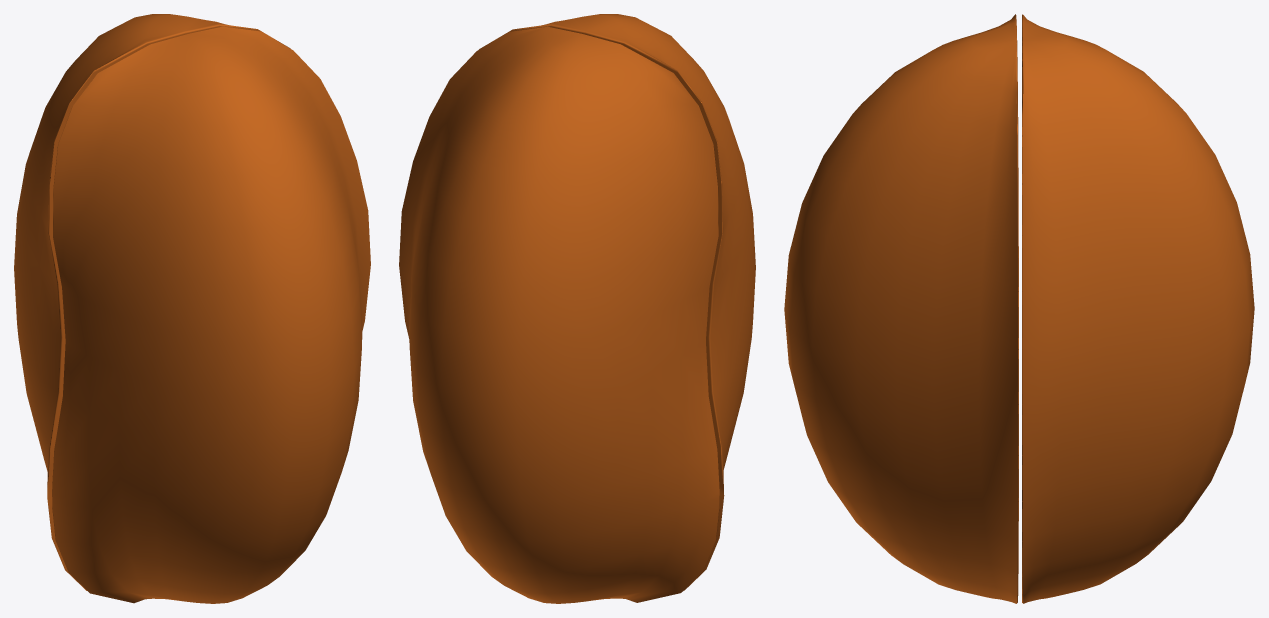
File: Seed final..fbx
3 renders of one model, left to right at view 1: azimuth 30°, elevation 25°; view 2: azimuth 150°, elevation 25°; view 3: azimuth 270°, elevation 25°, orthographic.
Visible parts, largest first — view 1: Sphere; view 2: Sphere; view 3: Sphere.
Part boxes in pixels (<box>): Sphere: <box>14,14,370,603</box>; Sphere: <box>399,14,755,603</box>; Sphere: <box>784,14,1254,603</box>.
Size of what is drawn, in the model's own units: 152 by 251 by 194.
